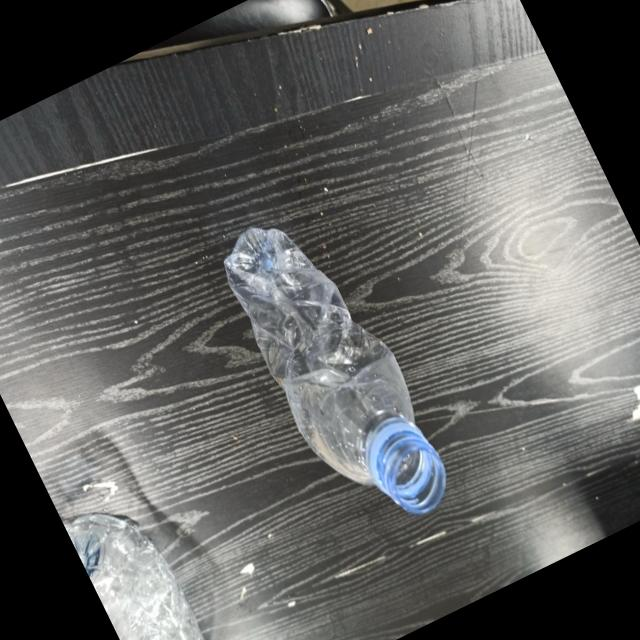BotolPlastik: (208, 195, 464, 550), (60, 479, 250, 640)
